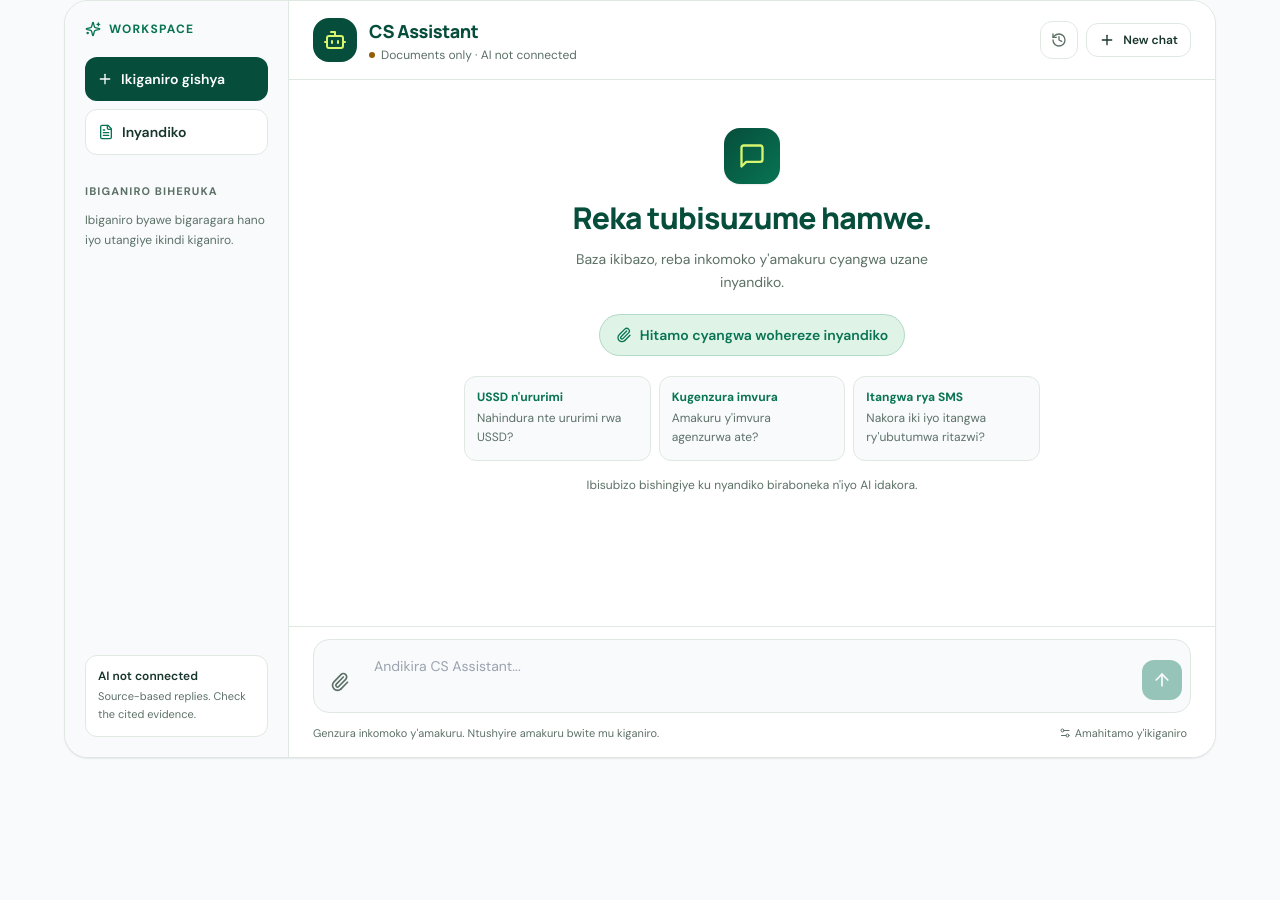
localizes the welcome and question suggestions with the interface language
expect the heading "Reka tubisuzume hamwe." is shown: met, box [572,200,932,236]
Click the button "Nahindura nte ururimi rwa USSD?": click(557, 418) [464,376,651,460]
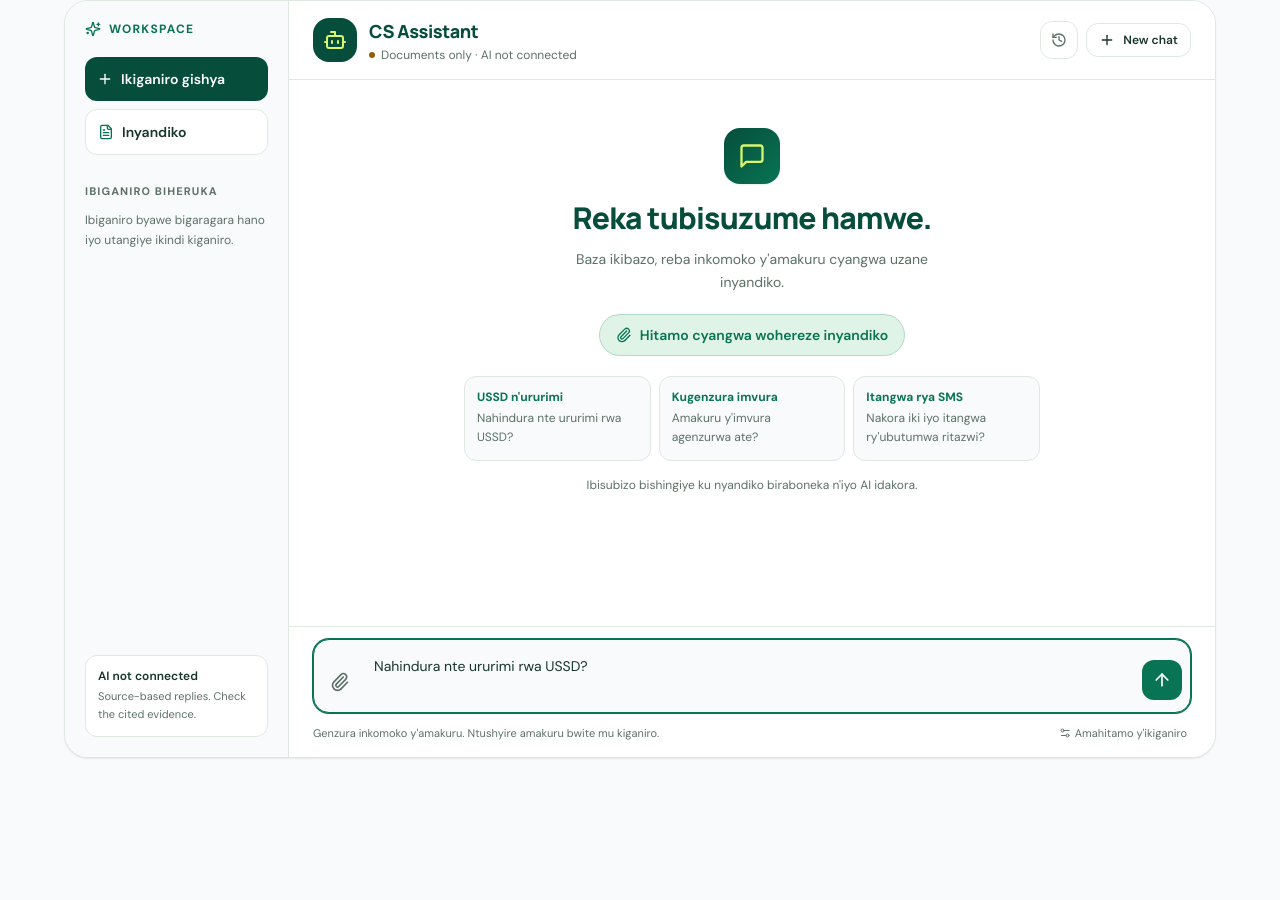
expect the text "Ntushyire amakuru bwite" is shown: met, box [313,726,659,740]
expect the text box named "Ikibazo cyawe" holds "Nahindura nte ururimi rwa USSD?": met, box [366,648,1134,704]
